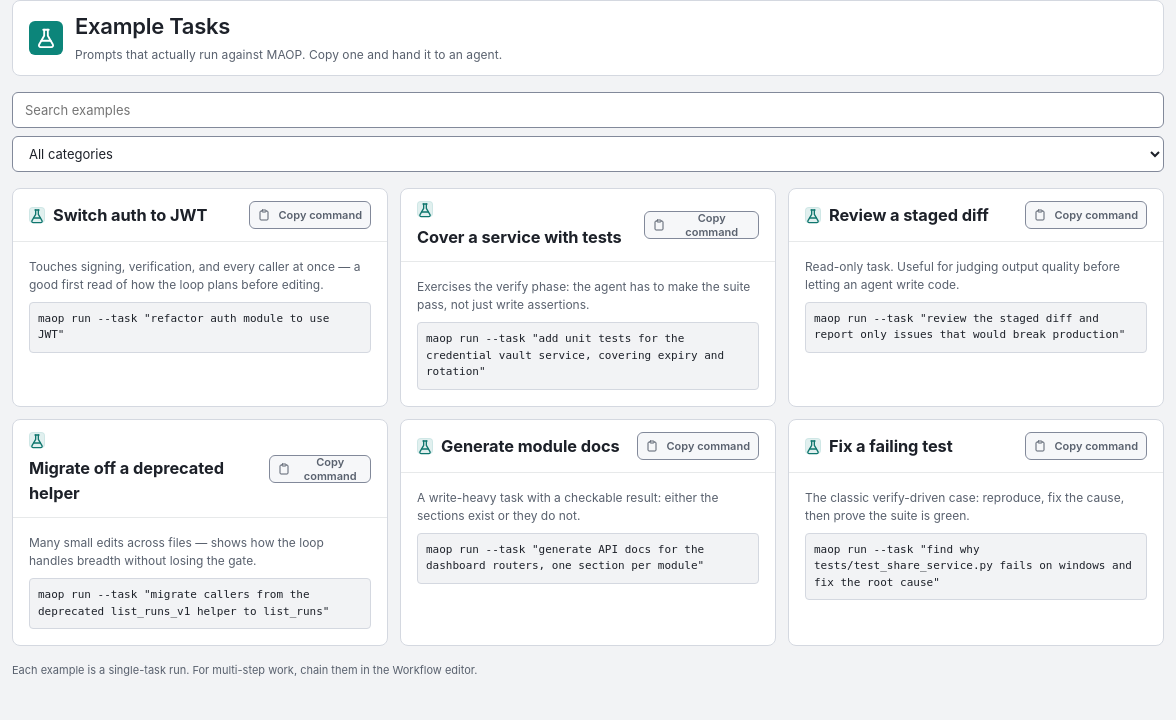
Scenario: Examples.vue › reports a copy failure instead of throwing
Click the button "Copy command" next to "Switch auth to JWT".
click(310, 215)  # box [250, 201, 371, 229]
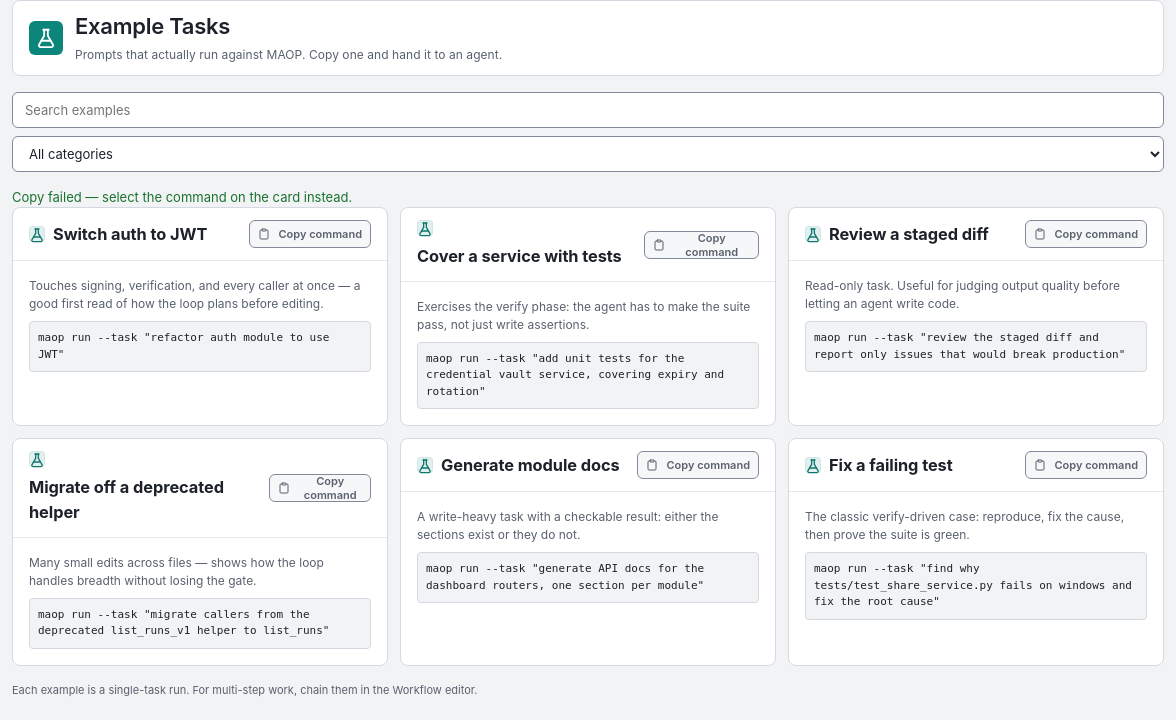
Expected: the text "Copy failed" is shown, [12, 189, 352, 205]
